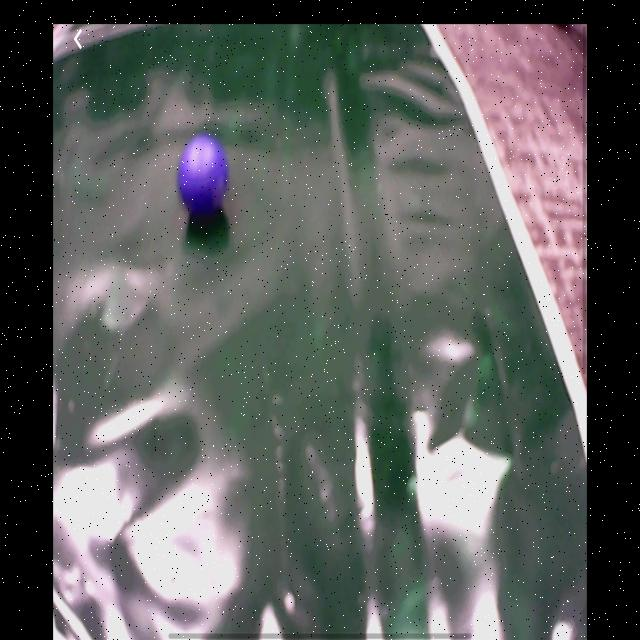ball: (179, 134, 230, 215)
